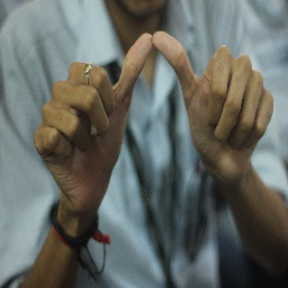A: (55, 29, 252, 144)
